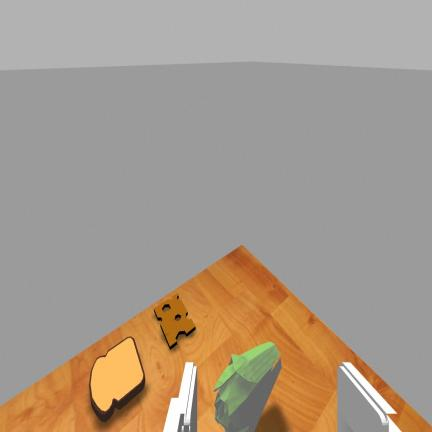cheese: (154, 294, 195, 349)
lettuce: (214, 341, 281, 431)
sliced_bread: (90, 337, 144, 421)
